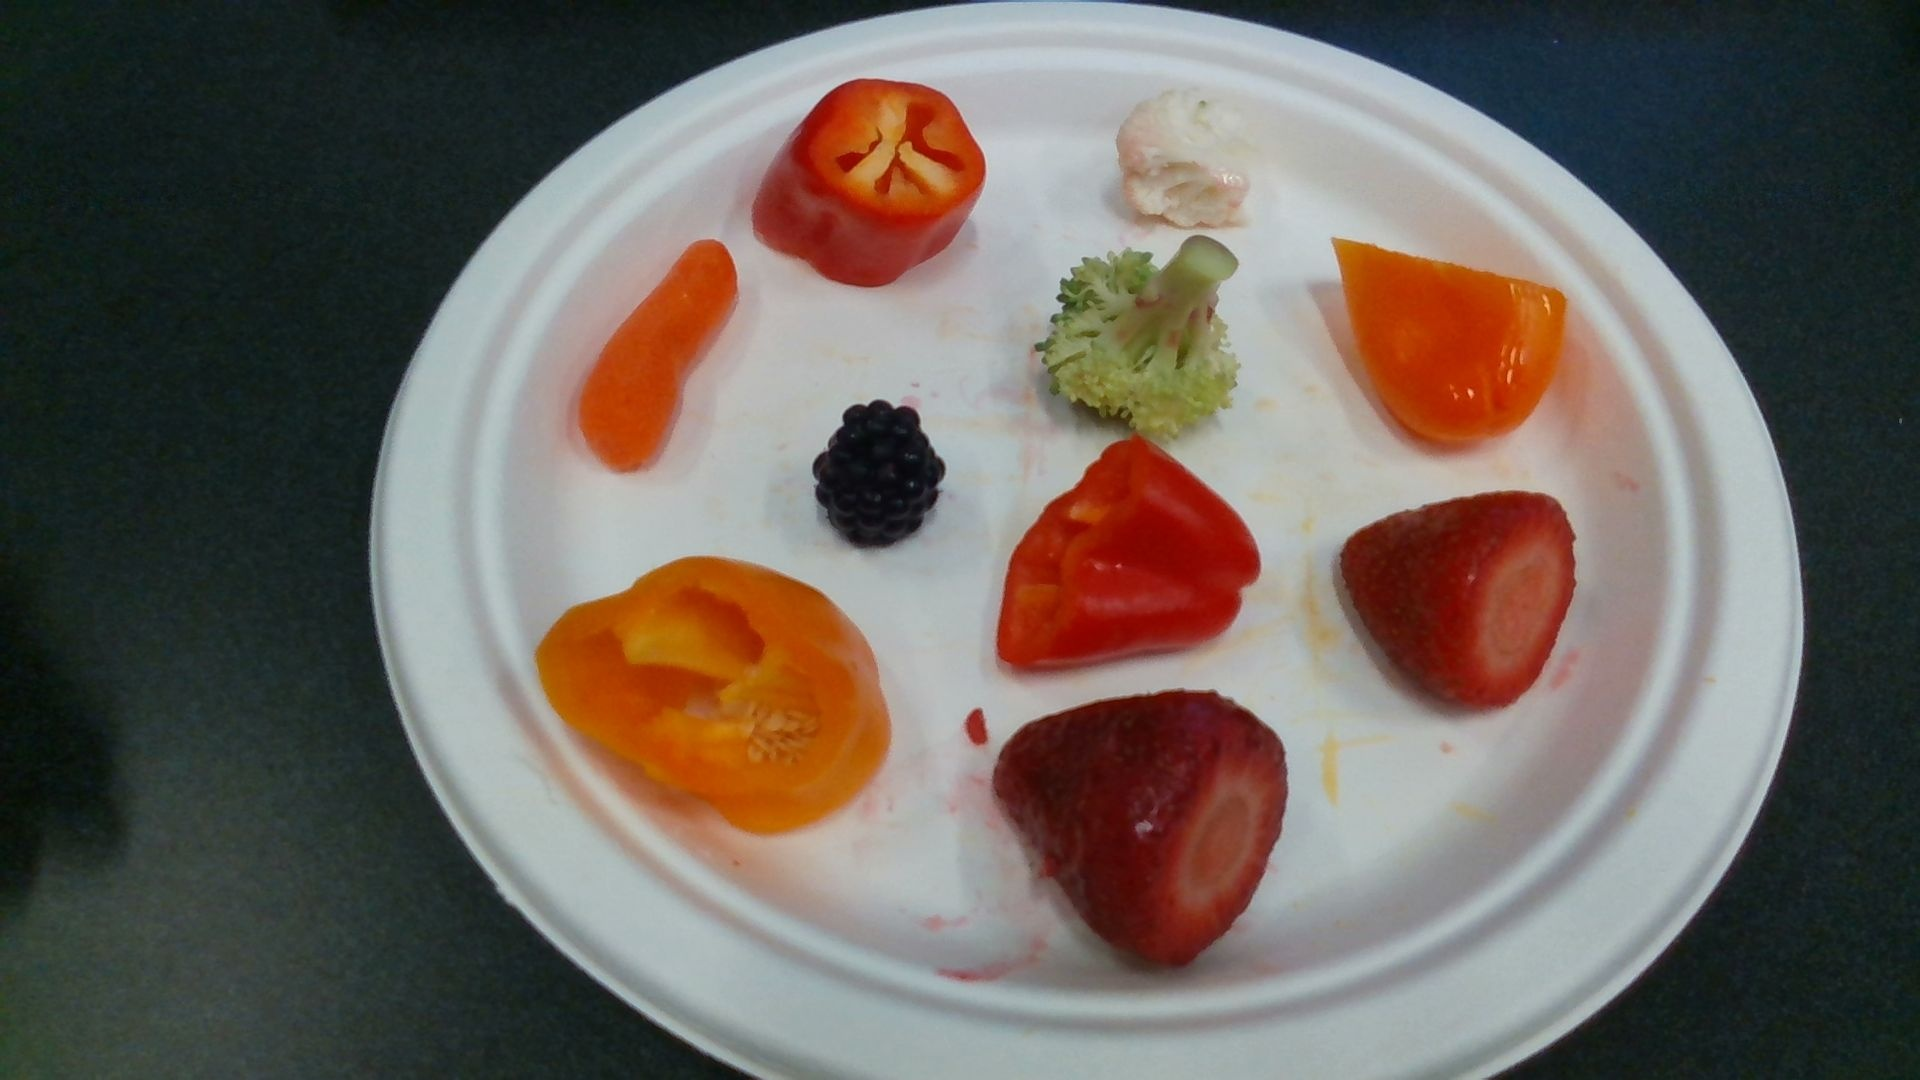bell_pepper: (537, 556, 890, 833), (1000, 438, 1262, 666), (1335, 231, 1567, 443), (752, 78, 984, 285)
blackberry: (819, 405, 944, 549)
broccoli: (1039, 236, 1240, 435)
carrot: (580, 243, 735, 471)
cauliflower: (1117, 86, 1254, 228)
strawberry: (997, 691, 1288, 968), (1340, 491, 1575, 711)
